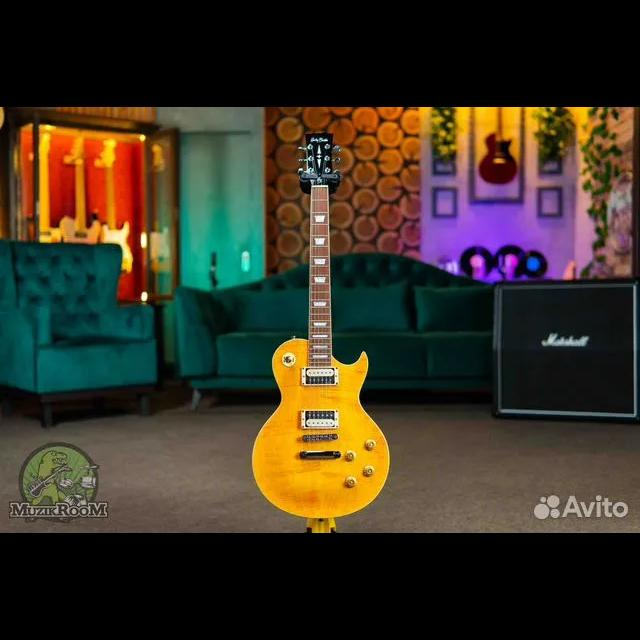Electric-Guitar: (253, 134, 389, 518)
